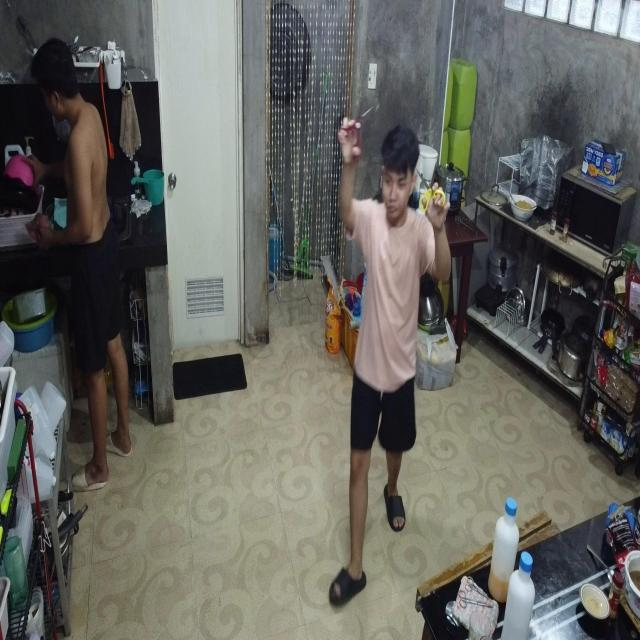scissor: (339, 98, 373, 166), (416, 168, 446, 213), (458, 590, 492, 610), (465, 576, 489, 601)
